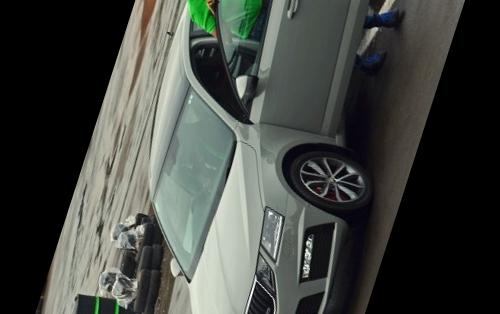plate: (245, 304, 307, 314)
